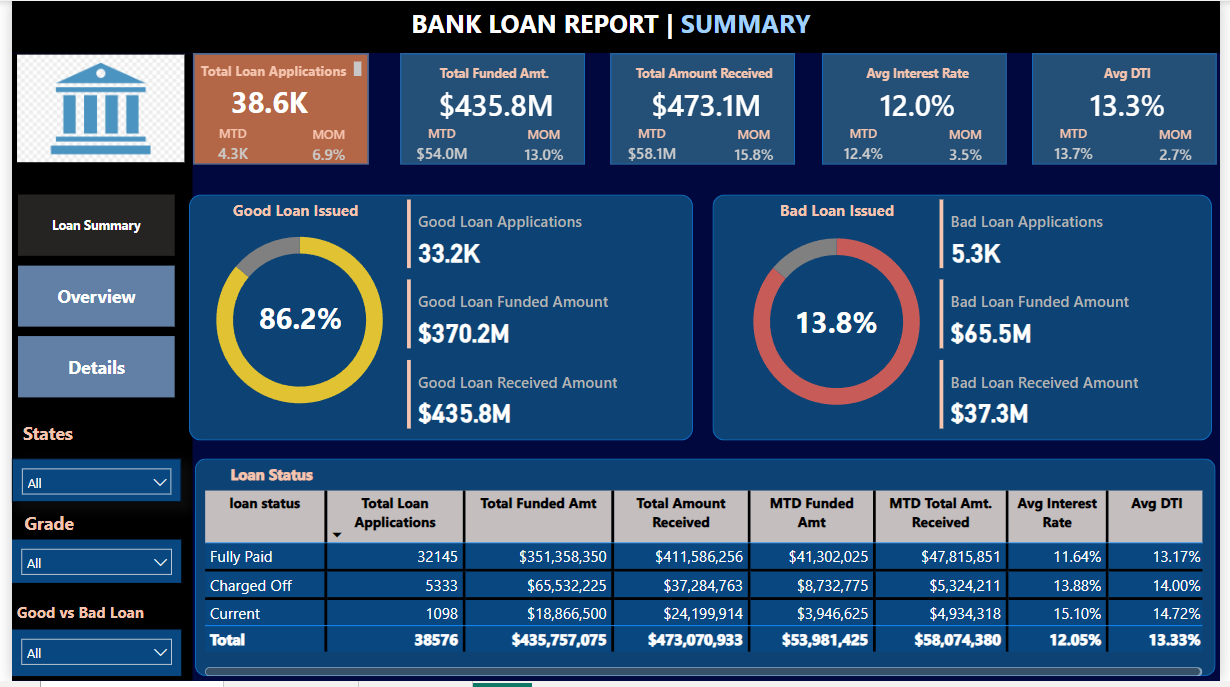

Layout of this report page (visuals, bound fields, positions):
{"tool":"powerbi","page":{"name":" Loan Summary","canvas":[1280,720],"ordinal":0},"visuals":[{"type":"shape","box":[0,55.9,191.5,664.4],"z":0},{"type":"shape","box":[0,0,1280,55],"z":1000},{"type":"shape","box":[187.5,205,534,260.7],"z":2000},{"type":"shape","box":[192.2,55.6,185.4,117.6],"z":3000,"group":"g1"},{"type":"shape","box":[412.1,55.6,195.5,117.6],"z":3000,"group":"g2"},{"type":"shape","box":[635,55.6,195.5,117.6],"z":3000,"group":"g3"},{"type":"shape","box":[857.9,55.6,195.5,117.6],"z":3000,"group":"g4"},{"type":"shape","box":[1080.8,55.6,195.5,117.6],"z":3000,"group":"g5"},{"type":"donutChart","fields":{"Category":["Bank_loan_data.Good VS Bad Loan"],"Y":["Bank_loan_data.Total Loan Applications"]},"box":[179.6,222.5,249.5,230.5],"z":3000},{"type":"textbox","box":[418,0,445,47.7],"z":4000},{"type":"card","fields":{"Values":["Bank_loan_data.Total Loan Applications"]},"box":[179.6,76.9,185.4,60.4],"z":4000,"group":"g1"},{"type":"card","fields":{"Values":["Bank_loan_data.Total Funded Amt"]},"box":[415.3,80,195.5,60.4],"z":4000,"group":"g2"},{"type":"card","fields":{"Values":["Bank_loan_data.Total Amount Received"]},"box":[638.2,80,195.5,60.4],"z":4000,"group":"g3"},{"type":"card","fields":{"Values":["Bank_loan_data.Avg Interest Rate"]},"box":[861.1,80,195.5,60.4],"z":4000,"group":"g4"},{"type":"card","fields":{"Values":["Bank_loan_data.Avg DTI"]},"box":[1084,80,195.5,60.4],"z":4000,"group":"g5"},{"type":"group","id":"g1","title":"Group 1","box":[179.6,55.6,198,119.2],"z":5000},{"type":"textbox","box":[188.2,58.8,187.5,27],"z":5000,"group":"g1"},{"type":"textbox","title":"Total Funded Amt.","box":[426.4,62,170.1,41.3],"z":5000,"group":"g2"},{"type":"textbox","title":"Total Funded Amt.","box":[649.3,62,170.1,41.3],"z":5000,"group":"g3"},{"type":"textbox","title":"Total Funded Amt.","box":[872.2,62,170.1,41.3],"z":5000,"group":"g4"},{"type":"textbox","title":"Total Funded Amt.","box":[1095.1,62,170.1,41.3],"z":5000,"group":"g5"},{"type":"group","id":"g2","title":"Group 1","box":[412.1,55.6,198.7,119.2],"z":6000},{"type":"card","title":"MTD","fields":{"Values":["Bank_loan_data.MTD Loan Applications"]},"box":[192.2,130.3,82.9,42.9],"z":6000,"group":"g1"},{"type":"card","title":"MTD","fields":{"Values":["Bank_loan_data.MTD Funded Amt"]},"box":[412.1,130.3,87.4,42.9],"z":6000,"group":"g2"},{"type":"card","title":"MTD","fields":{"Values":["Bank_loan_data.MTD Total Amt. Received"]},"box":[635,130.3,87.4,42.9],"z":6000,"group":"g3"},{"type":"card","title":"MTD","fields":{"Values":["Bank_loan_data.MTD Avg Interest Rate"]},"box":[857.9,130.3,87.4,42.9],"z":6000,"group":"g4"},{"type":"card","title":"MTD","fields":{"Values":["Bank_loan_data.MTD Avg DTI"]},"box":[1080.8,130.3,87.4,42.9],"z":6000,"group":"g5"},{"type":"card","title":"MOM","fields":{"Values":["Bank_loan_data.MoM Loan Applications"]},"box":[294.7,131.9,82.9,42.9],"z":7000,"group":"g1"},{"type":"card","title":"MOM","fields":{"Values":["Bank_loan_data.MoM Total Funded amt"]},"box":[520.2,131.9,87.4,42.9],"z":7000,"group":"g2"},{"type":"card","title":"MOM","fields":{"Values":["Bank_loan_data.MoM Total amt Received"]},"box":[743.1,131.9,87.4,42.9],"z":7000,"group":"g3"},{"type":"card","title":"MOM","fields":{"Values":["Bank_loan_data.MoM Avg Interest Rate"]},"box":[966,131.9,87.4,42.9],"z":7000,"group":"g4"},{"type":"card","title":"MOM","fields":{"Values":["Bank_loan_data.MoM Avg DTI"]},"box":[1188.9,131.9,87.4,42.9],"z":7000,"group":"g5"},{"type":"card","fields":{"Values":["Bank_loan_data.Good Loan %"]},"box":[244.8,305.2,120.8,60.4],"z":7000},{"type":"group","id":"g3","title":"Group 1","box":[635,55.6,198.7,119.2],"z":8000},{"type":"textbox","title":"Total Funded Amt.","box":[222.5,205,155.8,35],"z":9000},{"type":"group","id":"g4","title":"Group 1","box":[857.9,55.6,198.7,119.2],"z":10000},{"type":"group","id":"g5","title":"Group 1","box":[1080.8,55.6,198.7,119.2],"z":11000},{"type":"shape","box":[742.3,205,529.3,260.7],"z":12000},{"type":"donutChart","fields":{"Category":["Bank_loan_data.Good VS Bad Loan"],"Y":["Bank_loan_data.Total Loan Applications"]},"box":[748.6,224.1,249.5,230.5],"z":13000},{"type":"card","fields":{"Values":["Bank_loan_data.Bad Loan %"]},"box":[812.2,309.9,120.8,60.4],"z":14000},{"type":"cardVisual","fields":{"Data":["Bank_loan_data.Good Loan Applications","Bank_loan_data.Good Loan Funded Amount","Bank_loan_data.Good Loan Received Amount"]},"box":[413.2,205,295.6,254.3],"z":15000},{"type":"textbox","title":"Total Funded Amt.","box":[796.3,205,155.8,35],"z":16000},{"type":"cardVisual","fields":{"Data":["Bank_loan_data.Bad Loan Applications","Bank_loan_data.Bad Loan Funded Amount","Bank_loan_data.Bad Loan Received Amount"]},"box":[977.5,205,295.6,254.3],"z":17000},{"type":"shape","box":[193.2,484.7,1081.4,230.5],"z":18000},{"type":"tableEx","fields":{"Values":["Bank_loan_data.loan_status","Bank_loan_data.Total Loan Applications","Bank_loan_data.Total Funded Amt","Bank_loan_data.Total Amount Received","Bank_loan_data.MTD Funded Amt","Bank_loan_data.MTD Total Amt. Received","Bank_loan_data.Avg Interest Rate","Bank_loan_data.Avg DTI"]},"box":[198.3,513.6,1067.8,206.8],"z":19000},{"type":"textbox","title":"Total Funded Amt.","box":[196.6,484.7,155.9,35.6],"z":20000},{"type":"textbox","title":"Total Funded Amt.","box":[6.4,440.3,157.4,36.6],"z":21000},{"type":"textbox","title":"Total Funded Amt.","box":[7.9,535.6,157.4,35],"z":22000},{"type":"textbox","title":"Total Funded Amt.","box":[0,631,157.4,35],"z":23000},{"type":"slicer","fields":{"Values":["Bank_loan_data.grade"]},"box":[0,570.6,179.6,46.1],"z":24000},{"type":"slicer","fields":{"Values":["Bank_loan_data.Good VS Bad Loan"]},"box":[0,666,179.6,49.3],"z":25000},{"type":"slicer","fields":{"Values":["Bank_loan_data.address_state"]},"box":[0,484.8,179.6,46.1],"z":26000},{"type":"pageNavigator","box":[6.4,205,166.9,216.2],"z":27000},{"type":"image","box":[0,38.1,187.5,151],"z":27001}]}

Visuals, with their boxes in screenshot pixels (x1, y1, x2, y2), scaled from the page's 1280x720 canvas onto the 1230x687 screenshot:
shape: bbox=[0, 53, 184, 686]
shape: bbox=[0, 0, 1229, 52]
shape: bbox=[180, 196, 693, 444]
shape: bbox=[185, 53, 363, 165]
shape: bbox=[396, 53, 584, 165]
shape: bbox=[610, 53, 798, 165]
shape: bbox=[824, 53, 1012, 165]
shape: bbox=[1039, 53, 1226, 165]
donutChart - Bank_loan_data.Good VS Bad Loan x Bank_loan_data.Total Loan Applications: bbox=[173, 212, 412, 432]
textbox: bbox=[402, 0, 829, 46]
card - Bank_loan_data.Total Loan Applications: bbox=[173, 73, 351, 131]
card - Bank_loan_data.Total Funded Amt: bbox=[399, 76, 587, 134]
card - Bank_loan_data.Total Amount Received: bbox=[613, 76, 801, 134]
card - Bank_loan_data.Avg Interest Rate: bbox=[827, 76, 1015, 134]
card - Bank_loan_data.Avg DTI: bbox=[1042, 76, 1229, 134]
"Group 1" group: bbox=[173, 53, 363, 167]
textbox: bbox=[181, 56, 361, 82]
"Total Funded Amt." textbox: bbox=[410, 59, 573, 99]
"Total Funded Amt." textbox: bbox=[624, 59, 787, 99]
"Total Funded Amt." textbox: bbox=[838, 59, 1002, 99]
"Total Funded Amt." textbox: bbox=[1052, 59, 1216, 99]
"Group 1" group: bbox=[396, 53, 587, 167]
"MTD" card: bbox=[185, 124, 264, 165]
"MTD" card: bbox=[396, 124, 480, 165]
"MTD" card: bbox=[610, 124, 694, 165]
"MTD" card: bbox=[824, 124, 908, 165]
"MTD" card: bbox=[1039, 124, 1123, 165]
"MOM" card: bbox=[283, 126, 363, 167]
"MOM" card: bbox=[500, 126, 584, 167]
"MOM" card: bbox=[714, 126, 798, 167]
"MOM" card: bbox=[928, 126, 1012, 167]
"MOM" card: bbox=[1142, 126, 1226, 167]
card - Bank_loan_data.Good Loan %: bbox=[235, 291, 351, 349]
"Group 1" group: bbox=[610, 53, 801, 167]
"Total Funded Amt." textbox: bbox=[214, 196, 364, 229]
"Group 1" group: bbox=[824, 53, 1015, 167]
"Group 1" group: bbox=[1039, 53, 1229, 167]
shape: bbox=[713, 196, 1222, 444]
donutChart - Bank_loan_data.Good VS Bad Loan x Bank_loan_data.Total Loan Applications: bbox=[719, 214, 959, 434]
card - Bank_loan_data.Bad Loan %: bbox=[780, 296, 897, 353]
cardVisual - Bank_loan_data.Good Loan Applications x Bank_loan_data.Good Loan Funded Amount: bbox=[397, 196, 681, 438]
"Total Funded Amt." textbox: bbox=[765, 196, 915, 229]
cardVisual - Bank_loan_data.Bad Loan Applications x Bank_loan_data.Bad Loan Funded Amount: bbox=[939, 196, 1223, 438]
shape: bbox=[186, 462, 1225, 682]
tableEx - Bank_loan_data.loan_status x Bank_loan_data.Total Loan Applications: bbox=[191, 490, 1217, 686]
"Total Funded Amt." textbox: bbox=[189, 462, 339, 496]
"Total Funded Amt." textbox: bbox=[6, 420, 157, 455]
"Total Funded Amt." textbox: bbox=[8, 511, 159, 544]
"Total Funded Amt." textbox: bbox=[0, 602, 151, 635]
slicer - Bank_loan_data.grade: bbox=[0, 544, 173, 588]
slicer - Bank_loan_data.Good VS Bad Loan: bbox=[0, 635, 173, 683]
slicer - Bank_loan_data.address_state: bbox=[0, 463, 173, 507]
pageNavigator: bbox=[6, 196, 167, 402]
image: bbox=[0, 36, 180, 180]
